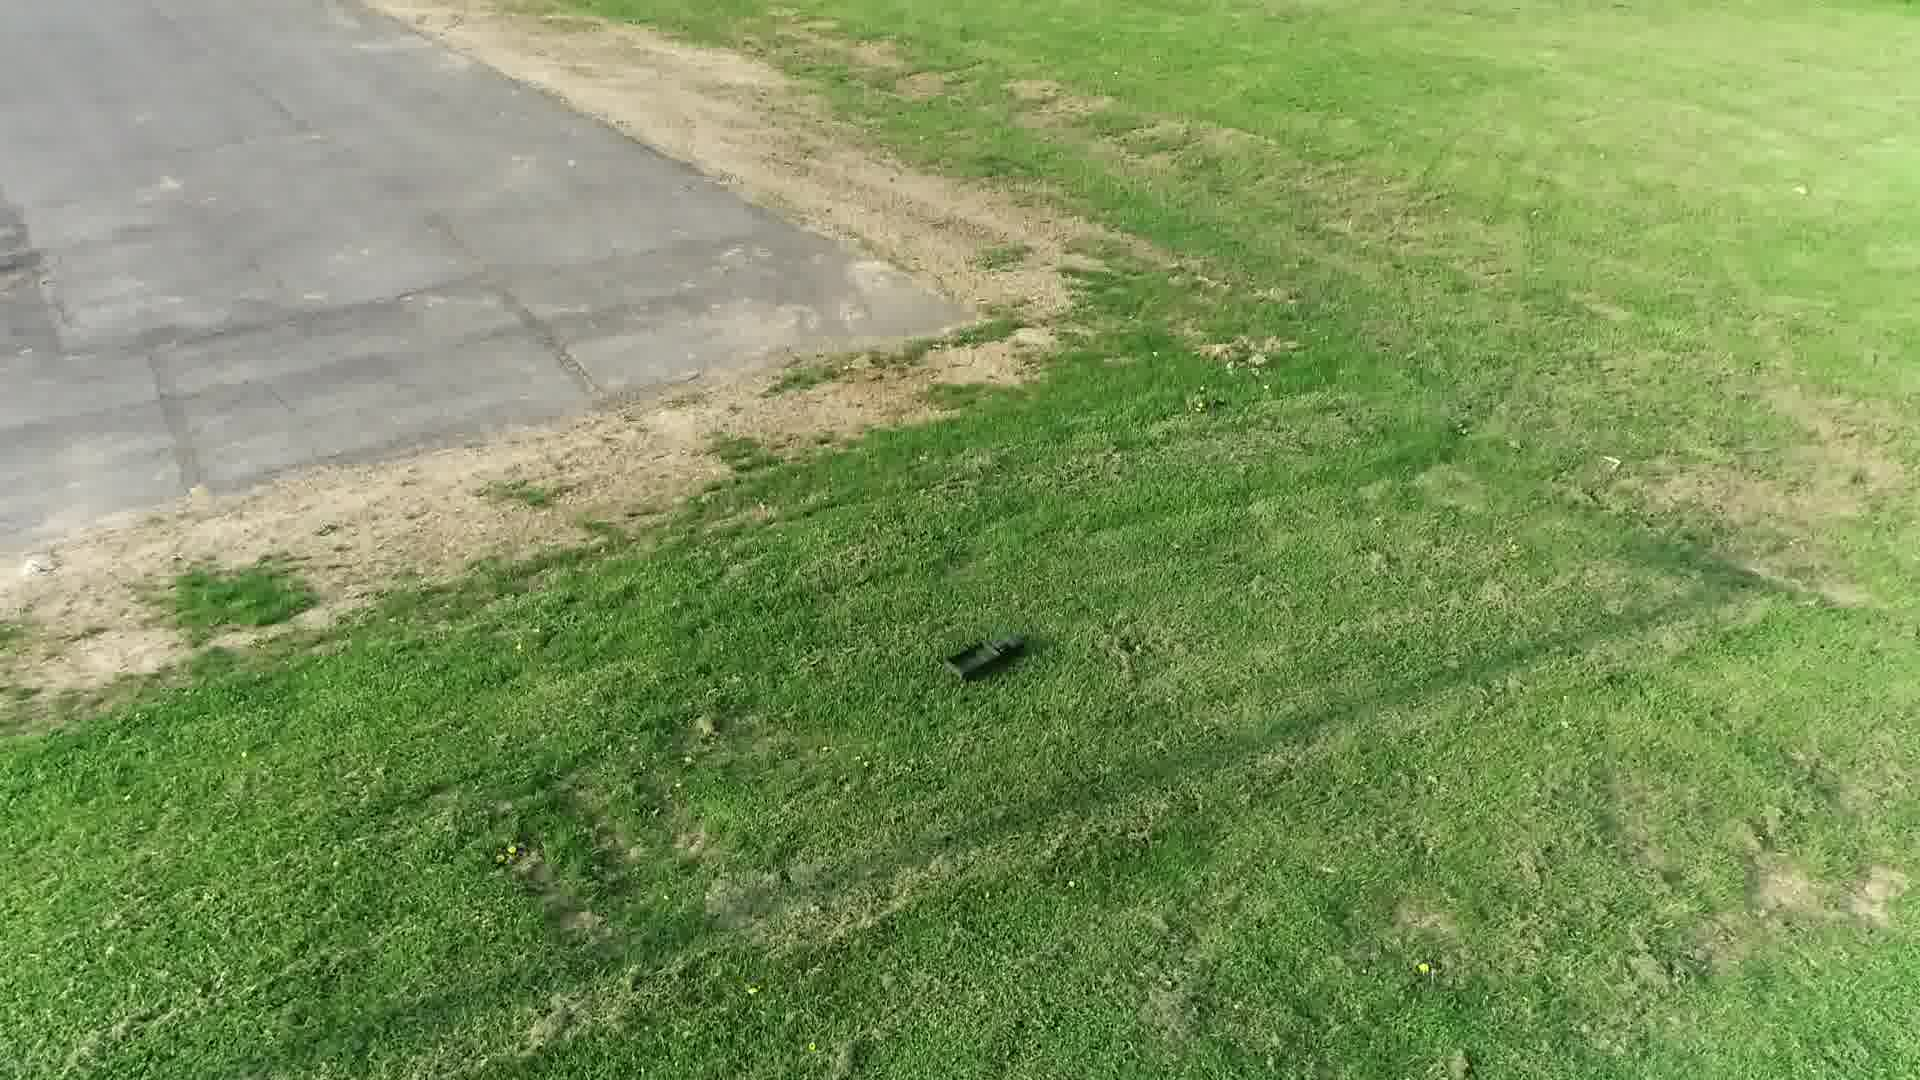transporter9: (940, 633, 1023, 683)
